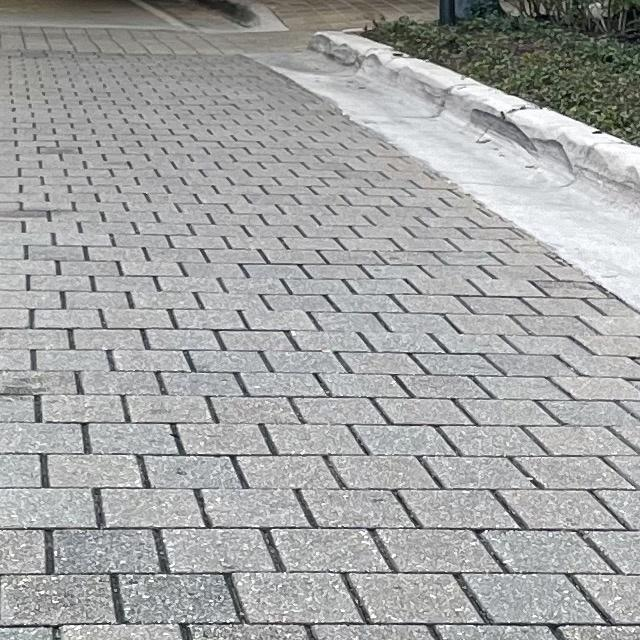curb: (247, 33, 639, 310)
